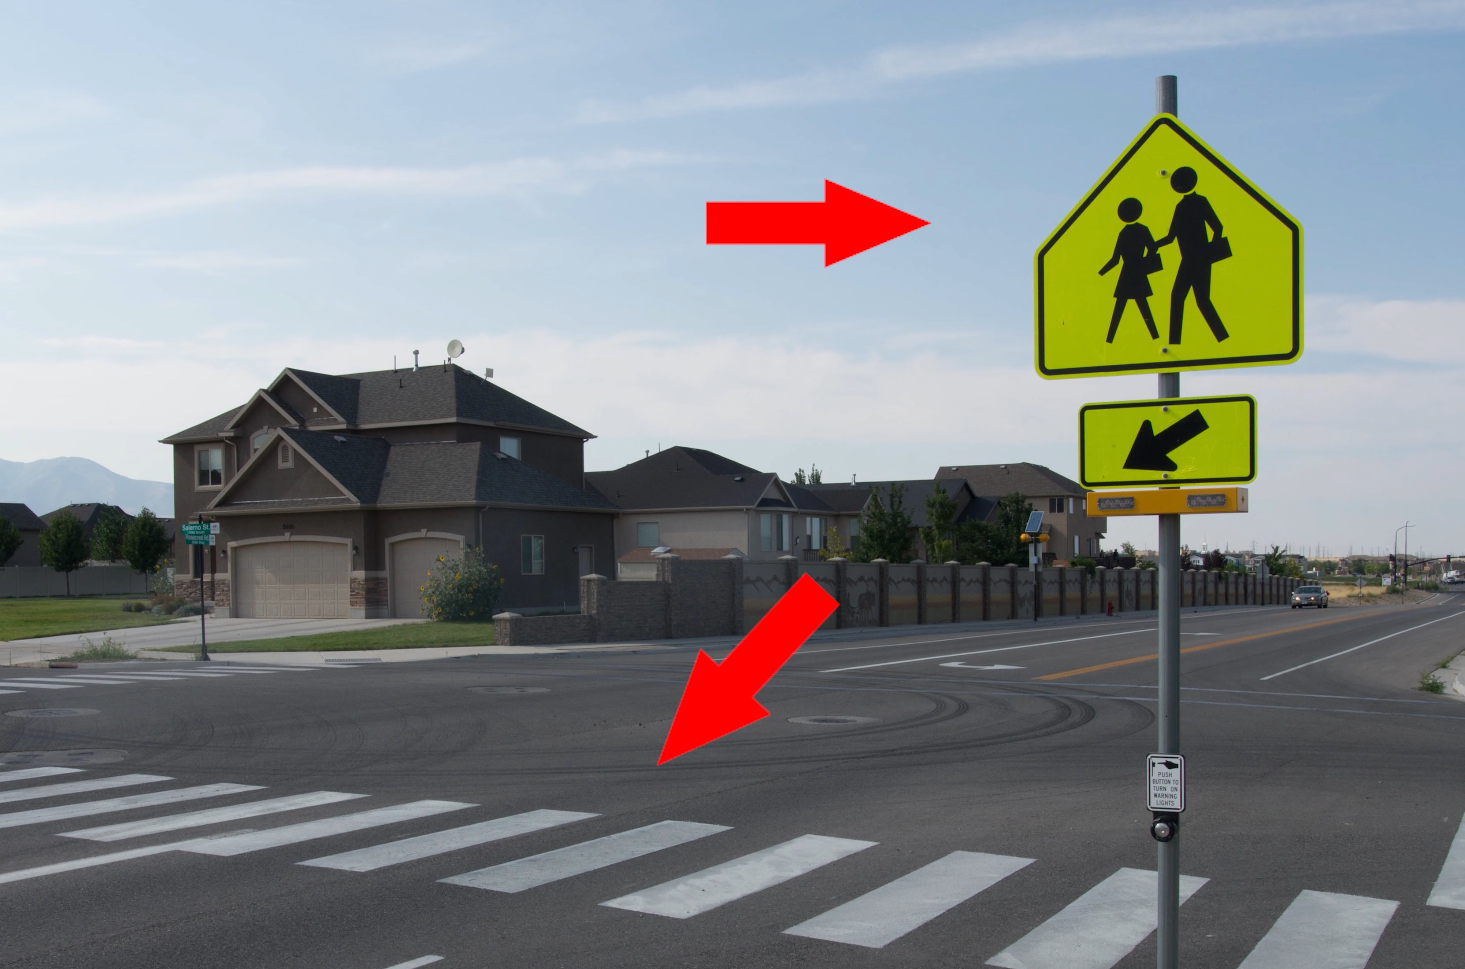slow: (1028, 115, 1310, 388)
